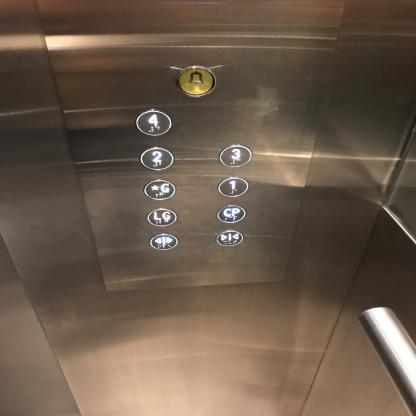1: (216, 176, 250, 197)
2: (139, 146, 174, 170)
3: (218, 144, 253, 167)
4: (134, 109, 172, 136)
CP: (216, 204, 247, 223)
LG: (146, 208, 178, 227)
alarm: (176, 64, 217, 98)
close: (214, 229, 244, 247)
open: (149, 234, 179, 250)
sG: (142, 179, 176, 200)
